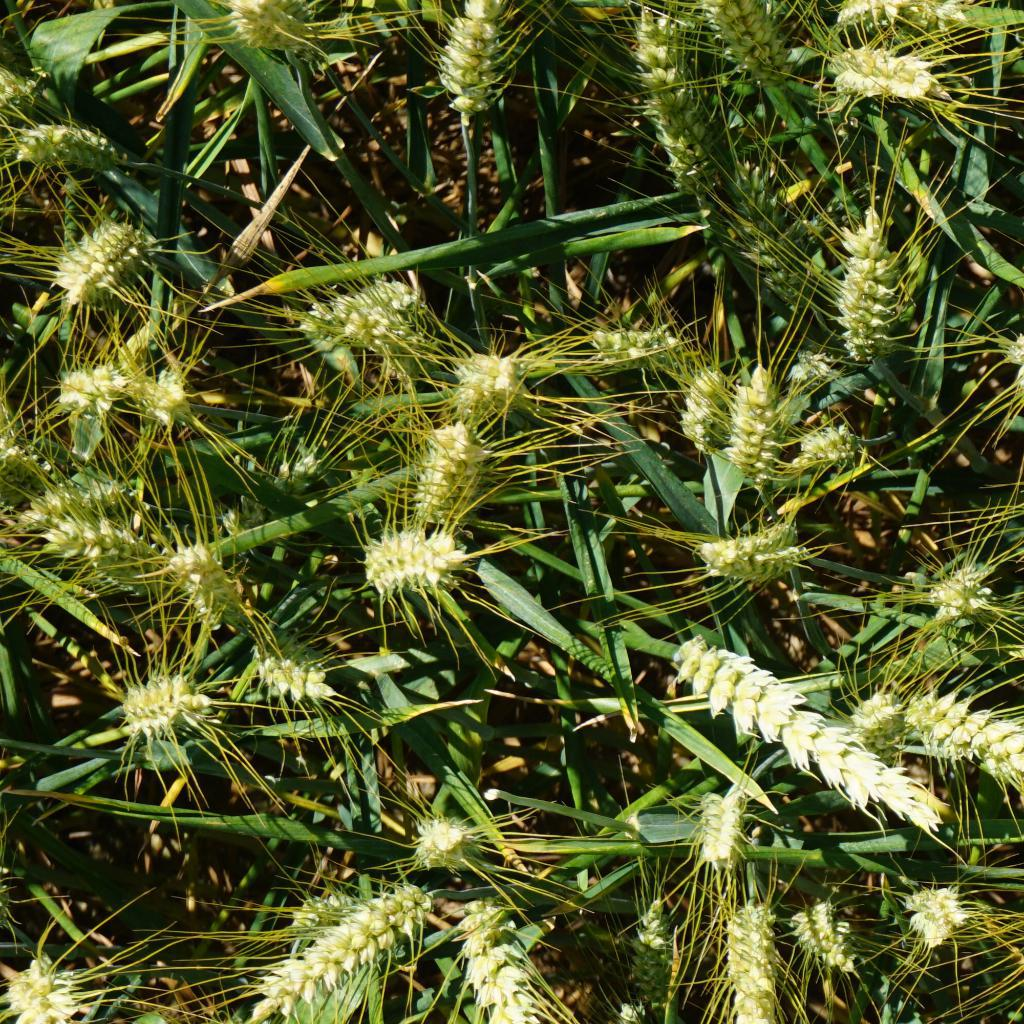0-0: (665, 633, 954, 835), (230, 878, 445, 1024), (273, 261, 448, 401), (626, 6, 736, 194), (736, 164, 824, 323), (457, 899, 567, 1024), (45, 214, 168, 322), (429, 0, 527, 121), (915, 688, 1024, 795), (221, 450, 333, 553), (830, 201, 901, 355), (242, 628, 355, 718), (350, 517, 470, 600), (715, 879, 782, 1024), (726, 358, 792, 498), (418, 419, 495, 523), (690, 520, 809, 583), (170, 544, 248, 632), (712, 0, 786, 92), (587, 322, 694, 384), (119, 664, 207, 739), (615, 899, 681, 995), (819, 47, 938, 100), (1, 940, 76, 1024), (219, 0, 318, 62), (132, 370, 217, 441), (841, 685, 912, 760), (408, 810, 484, 878), (18, 115, 113, 169), (83, 521, 153, 592), (790, 890, 848, 974), (901, 880, 967, 952), (689, 782, 749, 861), (681, 364, 731, 458), (932, 556, 1001, 623), (21, 473, 120, 519), (453, 348, 521, 412), (56, 355, 120, 413), (292, 880, 358, 931), (0, 426, 47, 492), (783, 343, 844, 391), (800, 429, 861, 475), (155, 1007, 267, 1024), (614, 1004, 694, 1024), (1008, 305, 1024, 392)
